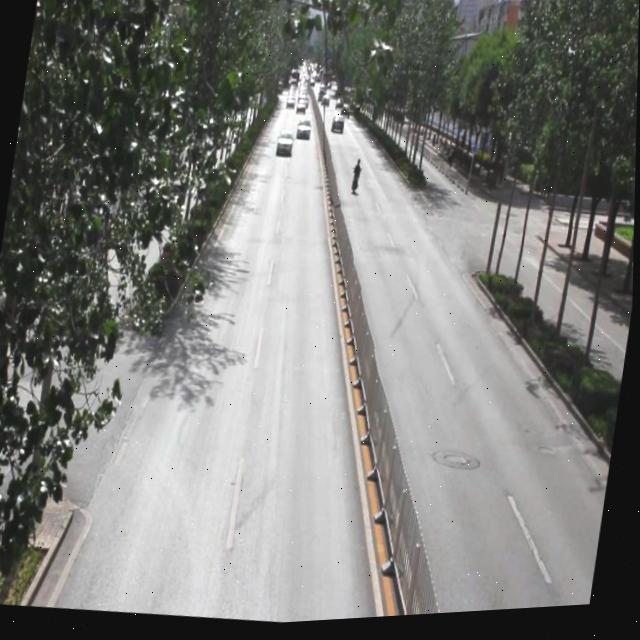car: (276, 131, 295, 159), (295, 119, 312, 142)
